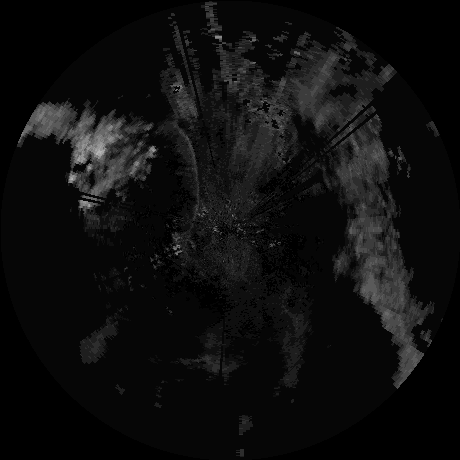frontgust: (173, 123, 200, 233)
